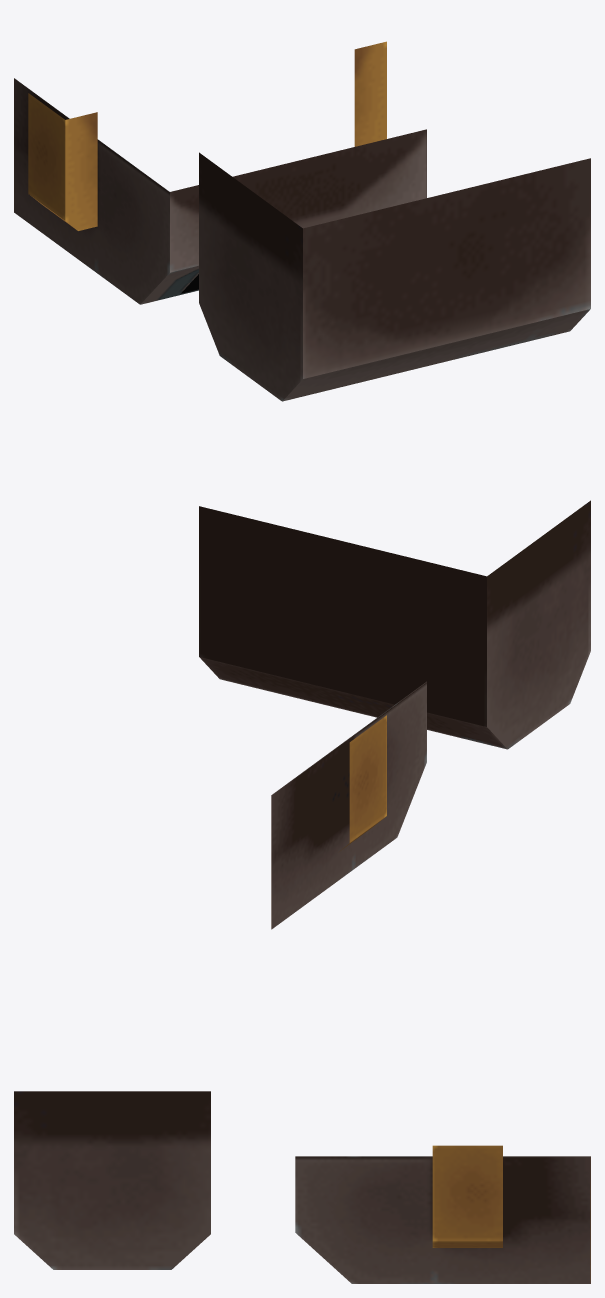
The model's file is console_guildhall_room.glb.
3 renders of one model, top to bottom at view 1: azimuth 30°, elevation 25°; view 2: azimuth 150°, elevation 25°; view 3: azimuth 270°, elevation 25°, orthographic. The views are drawn at different scales.
Parts seen in each view (by area): view 1: room_console.console_guildhall_room-Mesh[2]; view 2: room_console.console_guildhall_room-Mesh[2]; view 3: room_console.console_guildhall_room-Mesh[2].
Boxes of the visible parts, <box> form: room_console.console_guildhall_room-Mesh[2]: <box>14,41,590,401</box>; room_console.console_guildhall_room-Mesh[2]: <box>199,500,590,929</box>; room_console.console_guildhall_room-Mesh[2]: <box>14,1091,590,1283</box>.
Bounding box in the file's own units: 1 × 0.626 × 1.64.
Materials: 2 (2 with a texture image).
